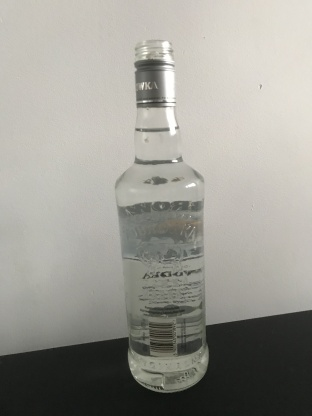nakretka: (132, 37, 177, 107)
